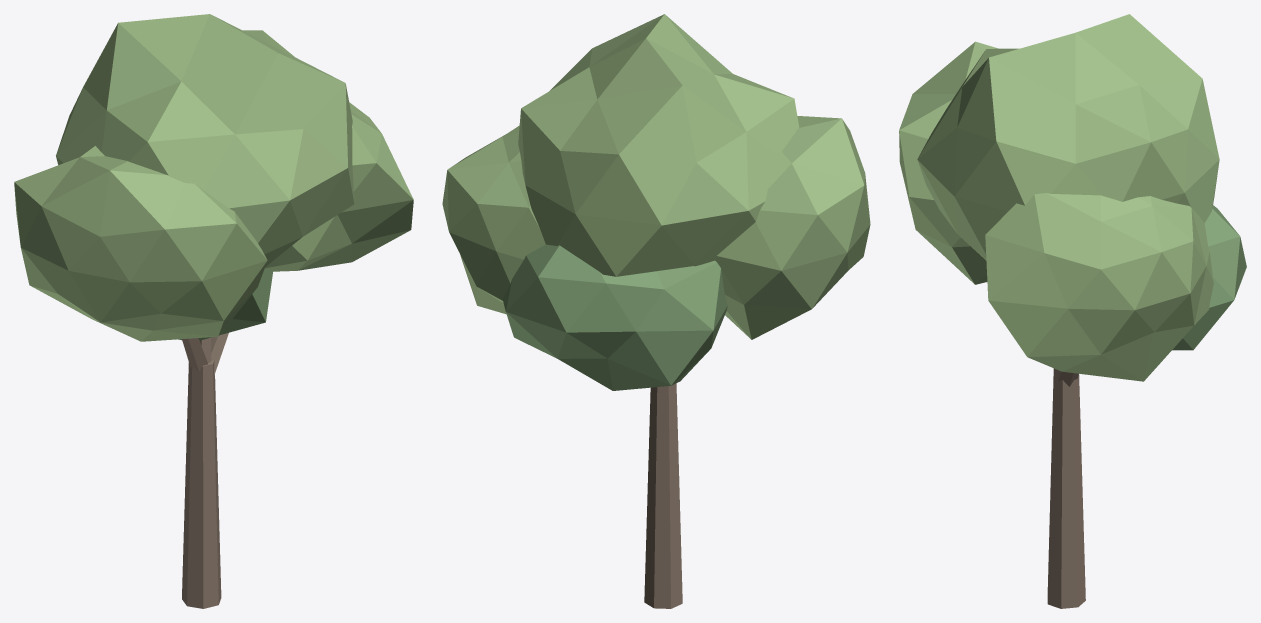
File: tree.glb
3 views of the same model, side by side, from view 1: azimuth 30°, elevation 25°; view 2: azimuth 150°, elevation 25°; view 3: azimuth 270°, elevation 25° (orthographic). The views are drawn at different scales.
Visible parts, largest first — view 1: tree; view 2: tree; view 3: tree.
Boxes of the visible parts, x1=… form: tree: x1=14, y1=14, x2=413, y2=608; tree: x1=442, y1=14, x2=870, y2=608; tree: x1=899, y1=14, x2=1246, y2=608.
Bounding box in the file's own units: 4.29 × 6.29 × 3.45.
